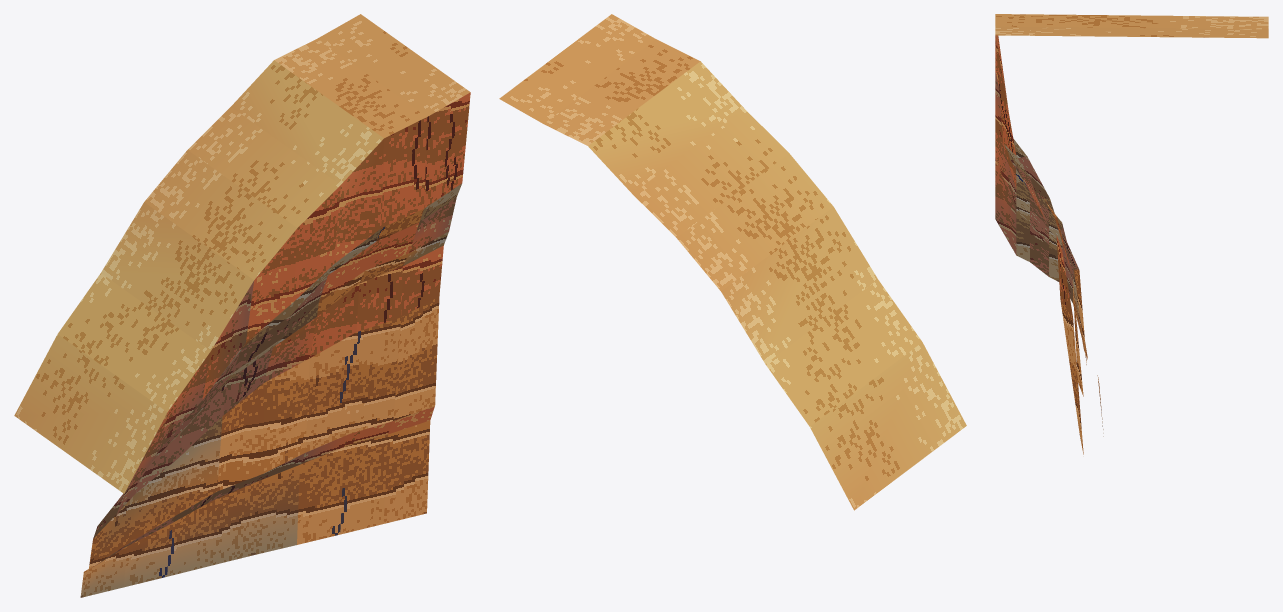
Rendered from wland.canyon_wall__end_w.glb.
The picture shows the model from 3 angles, left to right: view 1: azimuth 30°, elevation 25°; view 2: azimuth 150°, elevation 25°; view 3: azimuth 270°, elevation 25°; orthographic projection. The views are drawn at different scales.
Parts seen in each view (by area): view 1: kit_shell_face, kit_shell_cap; view 2: kit_shell_cap; view 3: kit_shell_face, kit_shell_cap.
Boxes of the visible parts, box(x1,y1,x2,y2) form: kit_shell_face: box(80, 92, 470, 597); kit_shell_cap: box(14, 14, 470, 493); kit_shell_cap: box(499, 14, 966, 510); kit_shell_face: box(995, 35, 1103, 454); kit_shell_cap: box(995, 14, 1268, 38).
Size of the model in its own units: 8 by 10 by 4.4.
Materials: 3 (3 with a texture image).
